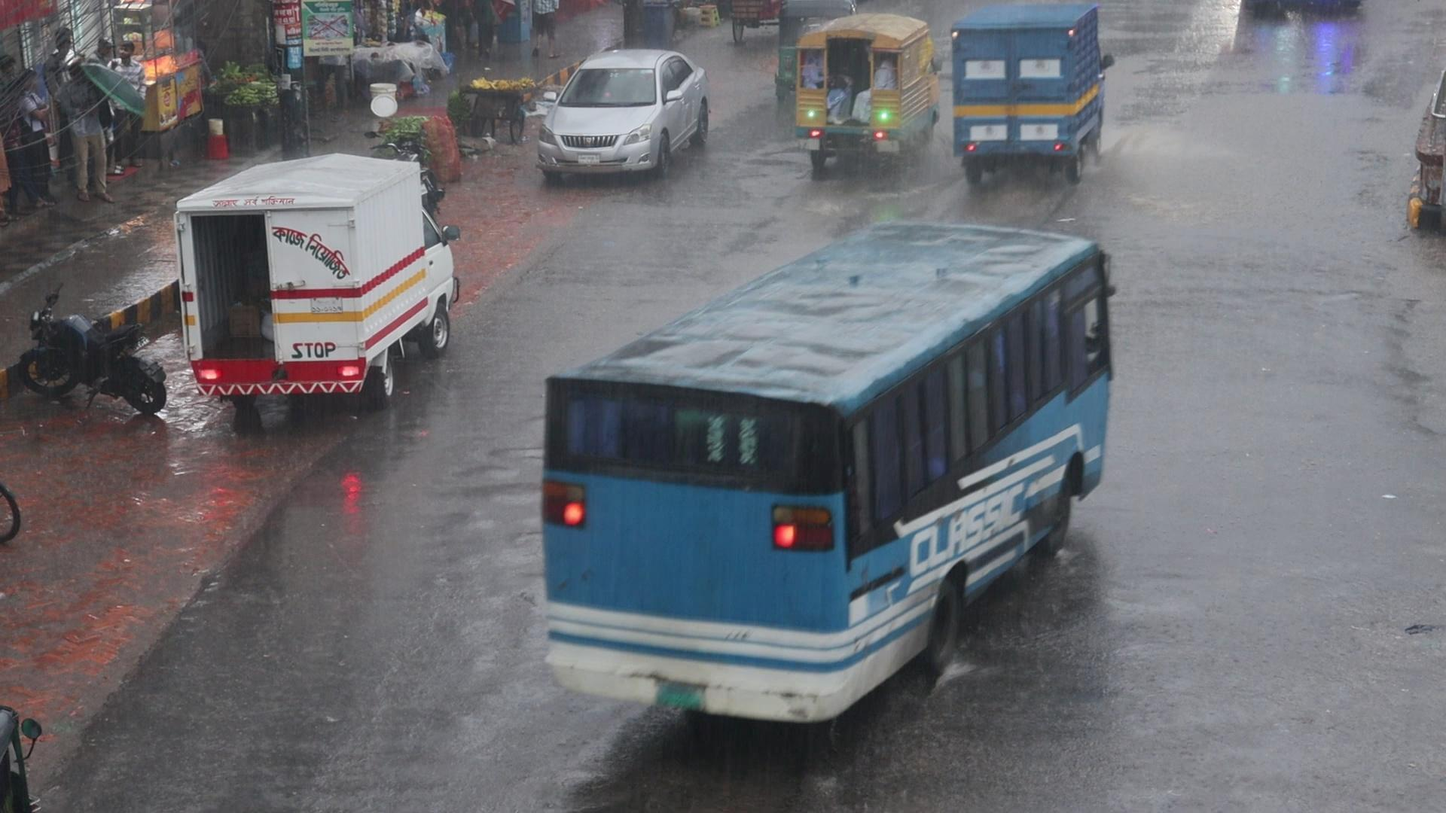Bus: (536, 216, 1118, 733)
Truck: (944, 5, 1115, 184), (791, 11, 942, 173)
